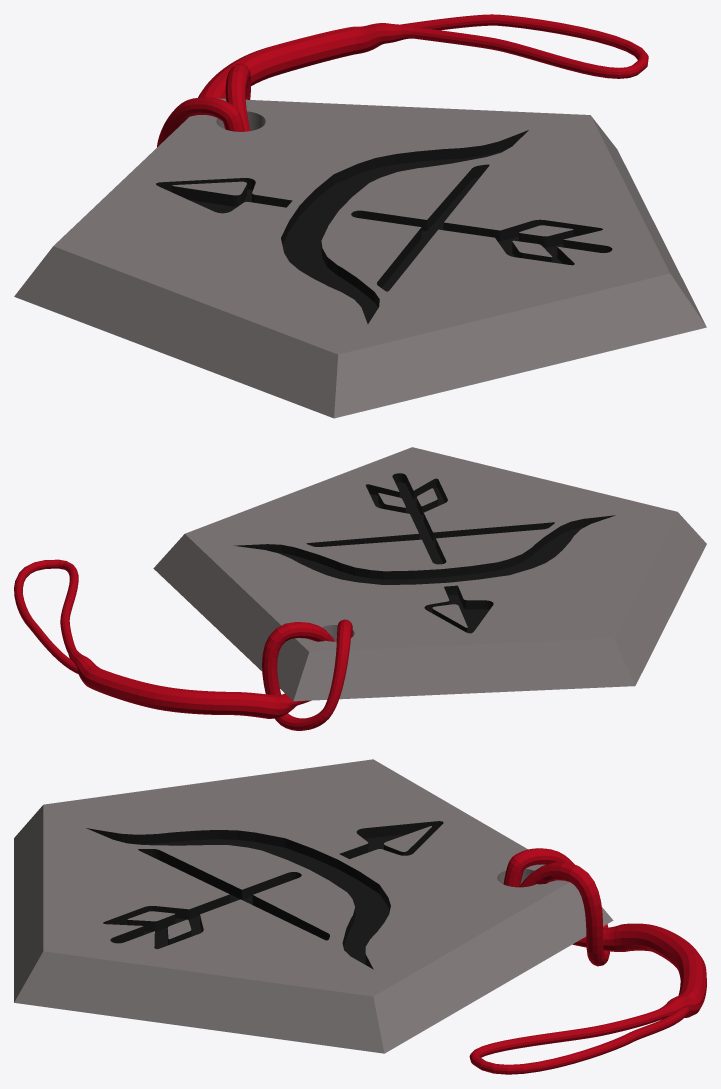
3 renders of one model, top to bottom at view 1: azimuth 30°, elevation 25°; view 2: azimuth 150°, elevation 25°; view 3: azimuth 270°, elevation 25°, orthographic. The views are drawn at different scales.
Parts seen in each view (by area): view 1: 円.005, ベジエカーブ; view 2: 円.005, ベジエカーブ; view 3: 円.005, ベジエカーブ.
Part boxes in pixels (box(x1,y1,x2,y2)): 円.005: box(14, 98, 706, 418); ベジエカーブ: box(157, 14, 648, 147); 円.005: box(153, 447, 706, 701); ベジエカーブ: box(14, 559, 352, 730); 円.005: box(14, 759, 613, 1053); ベジエカーブ: box(469, 848, 706, 1074).
Bounding box in the file's own units: 1.22 × 0.1938 × 1.16.
